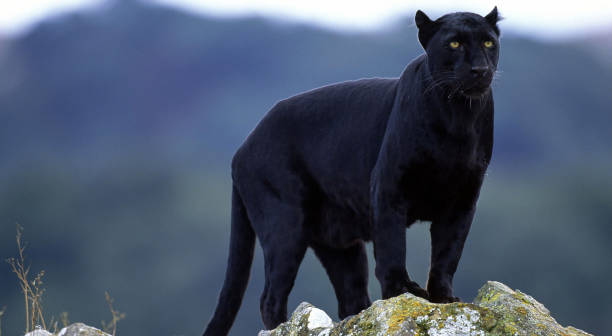panther: (409, 1, 516, 105)
